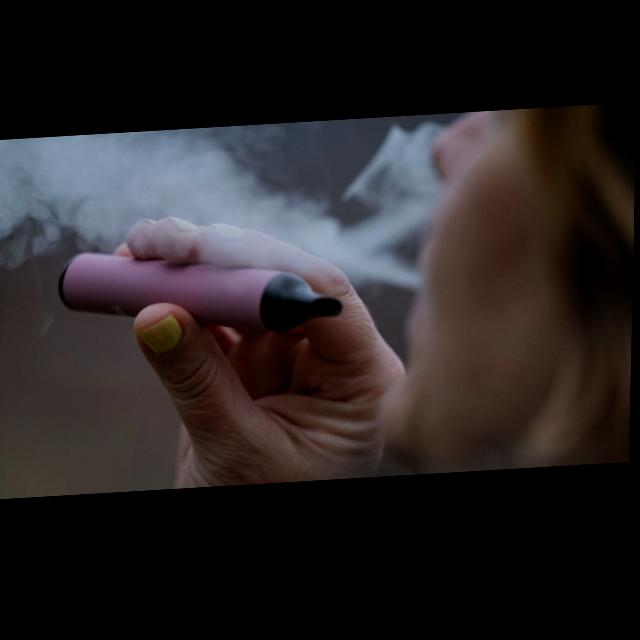vape: (56, 240, 345, 345)
